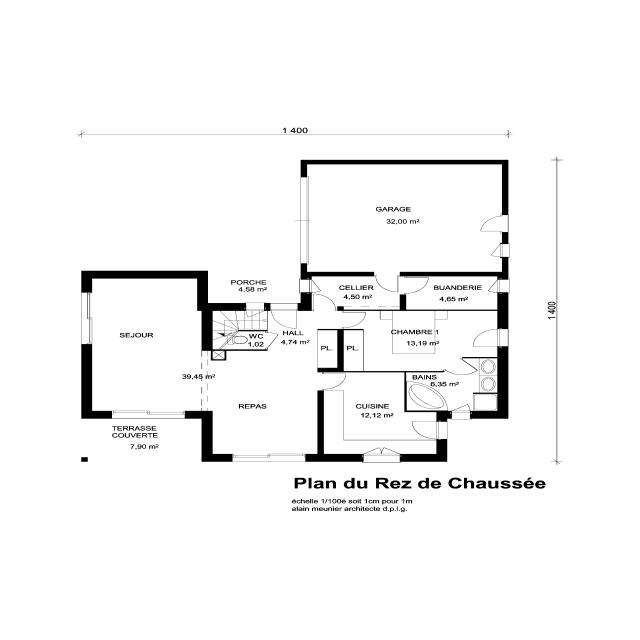door: (469, 326, 506, 348), (476, 212, 510, 234), (268, 307, 300, 330), (409, 419, 442, 441), (373, 273, 404, 293), (318, 371, 348, 391), (399, 275, 430, 294), (310, 292, 340, 311), (361, 447, 399, 462), (339, 309, 368, 328), (486, 241, 509, 258), (242, 302, 266, 318), (448, 404, 475, 418), (301, 277, 319, 297), (490, 277, 508, 295)
window: (291, 171, 316, 268), (76, 291, 95, 347), (106, 409, 188, 419), (227, 452, 307, 462), (298, 277, 317, 296), (490, 241, 509, 259), (493, 278, 510, 295)
zone: (301, 163, 503, 273), (89, 276, 201, 412), (207, 351, 317, 456), (344, 310, 497, 370), (322, 370, 412, 456), (404, 370, 498, 410), (405, 274, 500, 312), (308, 274, 404, 310), (211, 308, 267, 348)
